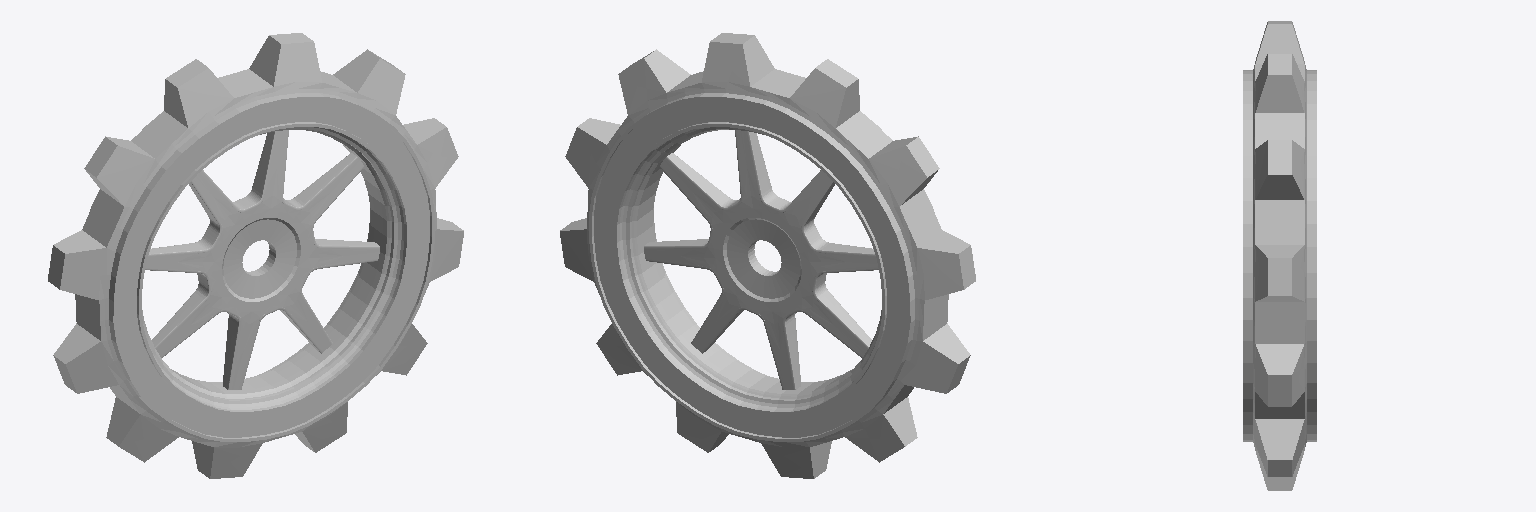
Rendered from gear2.obj.
3 renders of one model, left to right at view 1: azimuth 30°, elevation 25°; view 2: azimuth 150°, elevation 25°; view 3: azimuth 270°, elevation 25°, orthographic.
Parts seen in each view (by area): view 1: Cylinder.014_Cylinder.029; view 2: Cylinder.014_Cylinder.029; view 3: Cylinder.014_Cylinder.029.
Part boxes in pixels (left/top/right/bottom): Cylinder.014_Cylinder.029: left=48, top=33, right=463, bottom=478; Cylinder.014_Cylinder.029: left=560, top=33, right=975, bottom=478; Cylinder.014_Cylinder.029: left=1243, top=21, right=1316, bottom=490.
Size of the model in its own units: 2.96 by 2.96 by 0.4651.